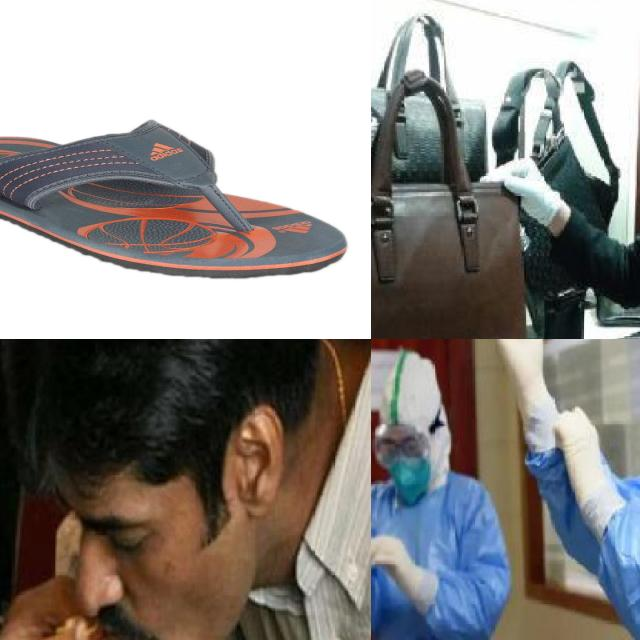No_Ear-Protection: (234, 406, 282, 522)
No_Glasses: (78, 499, 190, 571)
Sandals: (0, 118, 350, 281)
face_mask: (371, 339, 517, 640), (537, 339, 640, 640), (371, 428, 437, 492)
face_nomask: (77, 452, 238, 640)
glasses: (371, 425, 434, 468)
hand_glove: (477, 152, 563, 232), (552, 408, 611, 502), (489, 339, 552, 386), (371, 533, 414, 584)
hand_noglove: (0, 578, 118, 640)
head_nohelmet: (0, 339, 246, 500)
person: (0, 339, 371, 640)
